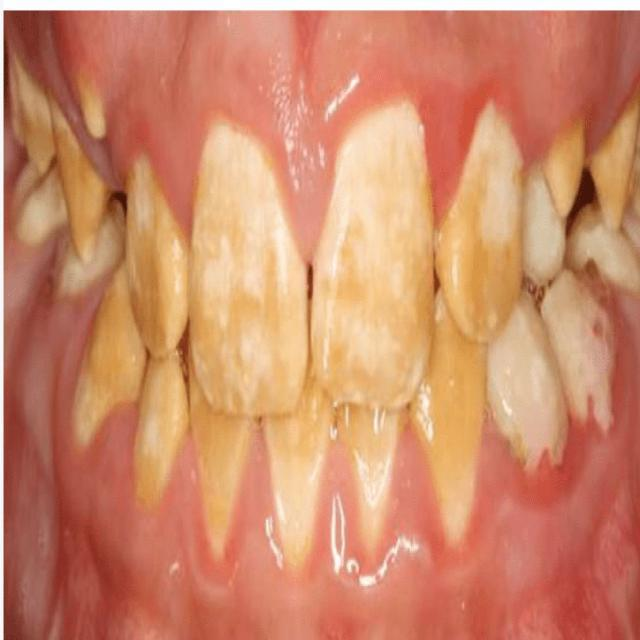LLCI_mdecay: (336, 401, 405, 570)
LLC_mdecay: (489, 341, 571, 485)
LLLI_mdecay: (409, 403, 488, 550)
LRCI_healthy: (257, 416, 333, 581)
LRC_mdecay: (131, 352, 186, 510)
LRLI_mdecay: (189, 414, 257, 560)
ULCI_mdecay: (311, 103, 436, 405)
ULLI_mdecay: (434, 97, 520, 340)
URCI_mdecay: (190, 115, 309, 415)
URLI_mdecay: (120, 153, 189, 357)
